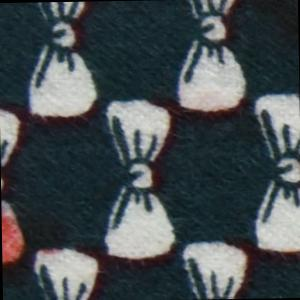Stain: (2, 209, 47, 287)
